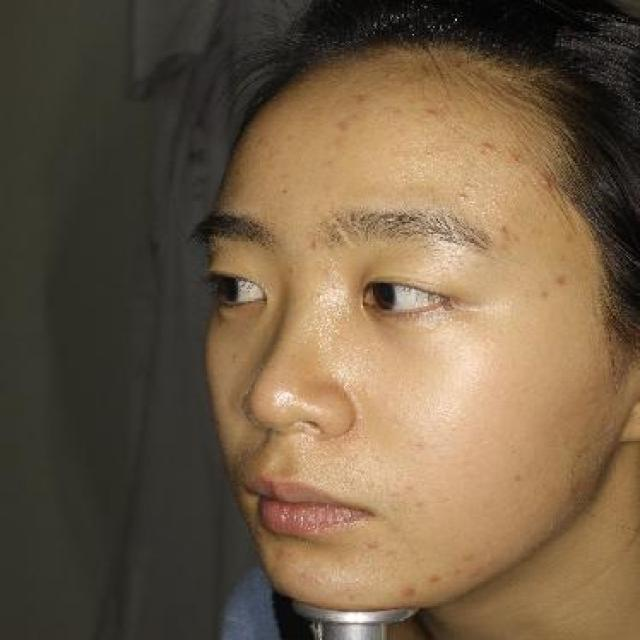dark spot: (330, 117, 354, 134), (426, 569, 447, 588), (399, 581, 416, 597)
papules: (477, 136, 498, 158), (539, 172, 561, 191), (510, 153, 530, 170)
pustules: (454, 188, 471, 206)
